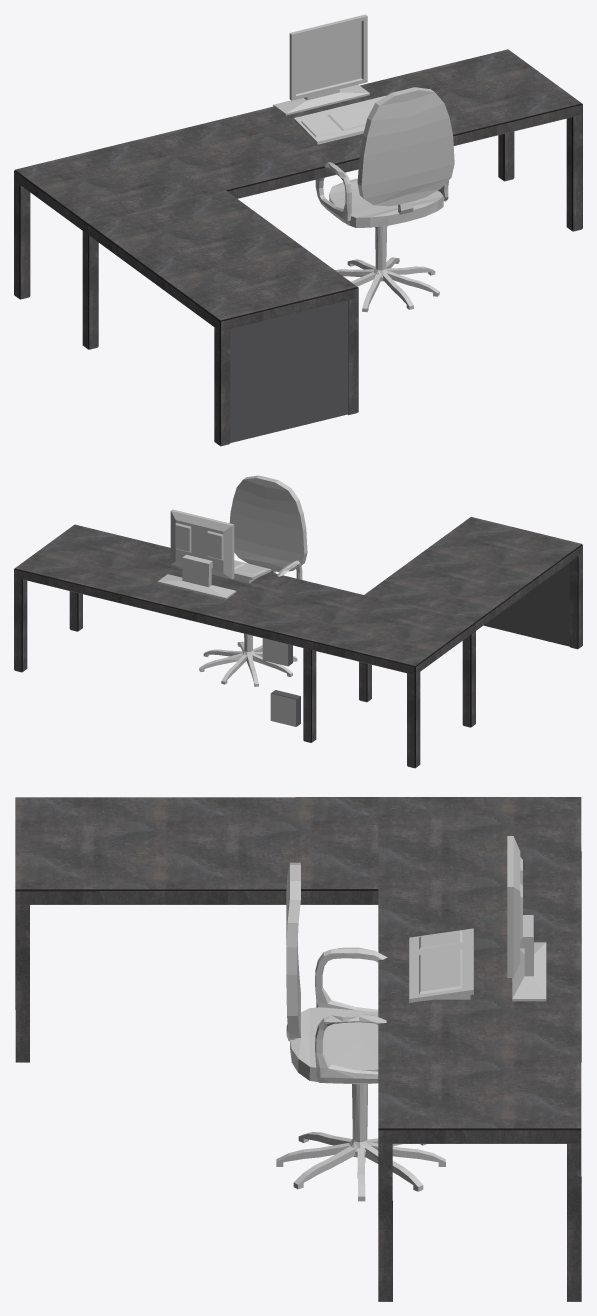
Rendered from SCP CB Desk.obj.
The picture shows the model from 3 angles, top to bottom: view 1: azimuth 30°, elevation 25°; view 2: azimuth 150°, elevation 25°; view 3: azimuth 270°, elevation 25°; orthographic projection. The views are drawn at different scales.
Parts seen in each view (by area): view 1: Part55, Part27, OfficeSeat1, Part68, Meshesmonitor1, Part58, Mesheskeyboard1, Part30, Part28, Part44, Part16, Part73 (+9 smaller); view 2: Part55, Part27, OfficeSeat1, Meshesmonitor1, Part68, Part57, Part28, Part54, Part2, Part50, Part36, Part64 (+11 smaller); view 3: Part55, Part27, OfficeSeat1, Part31, Mesheskeyboard1, Meshesmonitor1, Part59, Part38, Part45, Part17, Part26.
Part boxes in pixels (x1,y1,x2,y2): Part55: (15,49,581,223); Part27: (89,190,356,320); OfficeSeat1: (315,87,454,312); Part68: (230,300,348,442); Meshesmonitor1: (273,14,369,115); Part58: (227,105,582,198); Mesheskeyboard1: (294,95,385,144); Part30: (221,288,358,330); Part28: (88,225,219,330); Part44: (573,114,582,230); Part16: (349,298,358,414); Part73: (221,329,230,445); Part55: (15,524,474,665); Part27: (364,517,581,621); OfficeSeat1: (199,475,307,686); Meshesmonitor1: (157,509,236,599); Part68: (483,562,569,646); Part57: (14,569,414,674); Part28: (476,545,582,630); Part54: (14,568,475,674); Part2: (270,693,296,726); Part50: (407,673,414,767); Part36: (14,577,21,671); Part64: (303,648,310,742); Part55: (378,797,581,1128); Part27: (15,797,378,889); OfficeSeat1: (276,862,445,1201); Part31: (15,891,378,904); Mesheskeyboard1: (409,928,473,1002); Meshesmonitor1: (507,836,546,1001); Part59: (378,1130,581,1143); Part38: (567,1143,581,1301); Part45: (378,1143,392,1301); Part17: (15,904,29,1061); Part26: (15,889,378,891).
Size of the model in its own units: 10.84 by 4.64 by 7.84.
